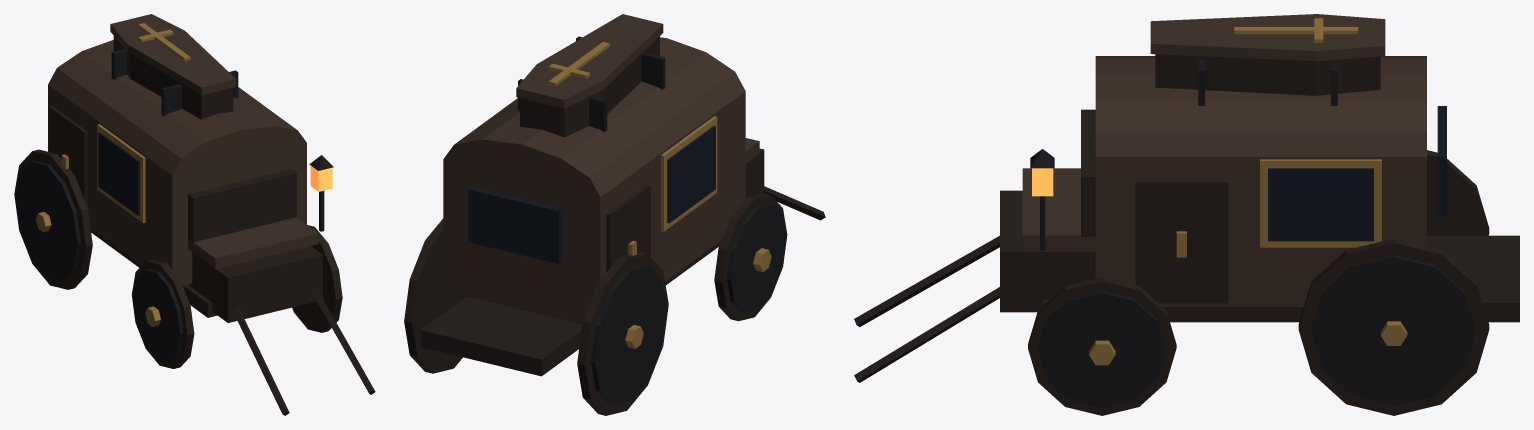
The model's file is gothic_carriage.glb.
3 renders of one model, left to right at view 1: azimuth 30°, elevation 25°; view 2: azimuth 150°, elevation 25°; view 3: azimuth 270°, elevation 25°, orthographic. The views are drawn at different scales.
Parts seen in each view (by area): view 1: gothic_carriage; view 2: gothic_carriage; view 3: gothic_carriage.
Part boxes in pixels (x1,y1,x2,y2): gothic_carriage: (14, 14, 375, 415); gothic_carriage: (404, 14, 825, 415); gothic_carriage: (854, 14, 1519, 415).
Size of the model in its own units: 2.02 by 2.8 by 5.02.
